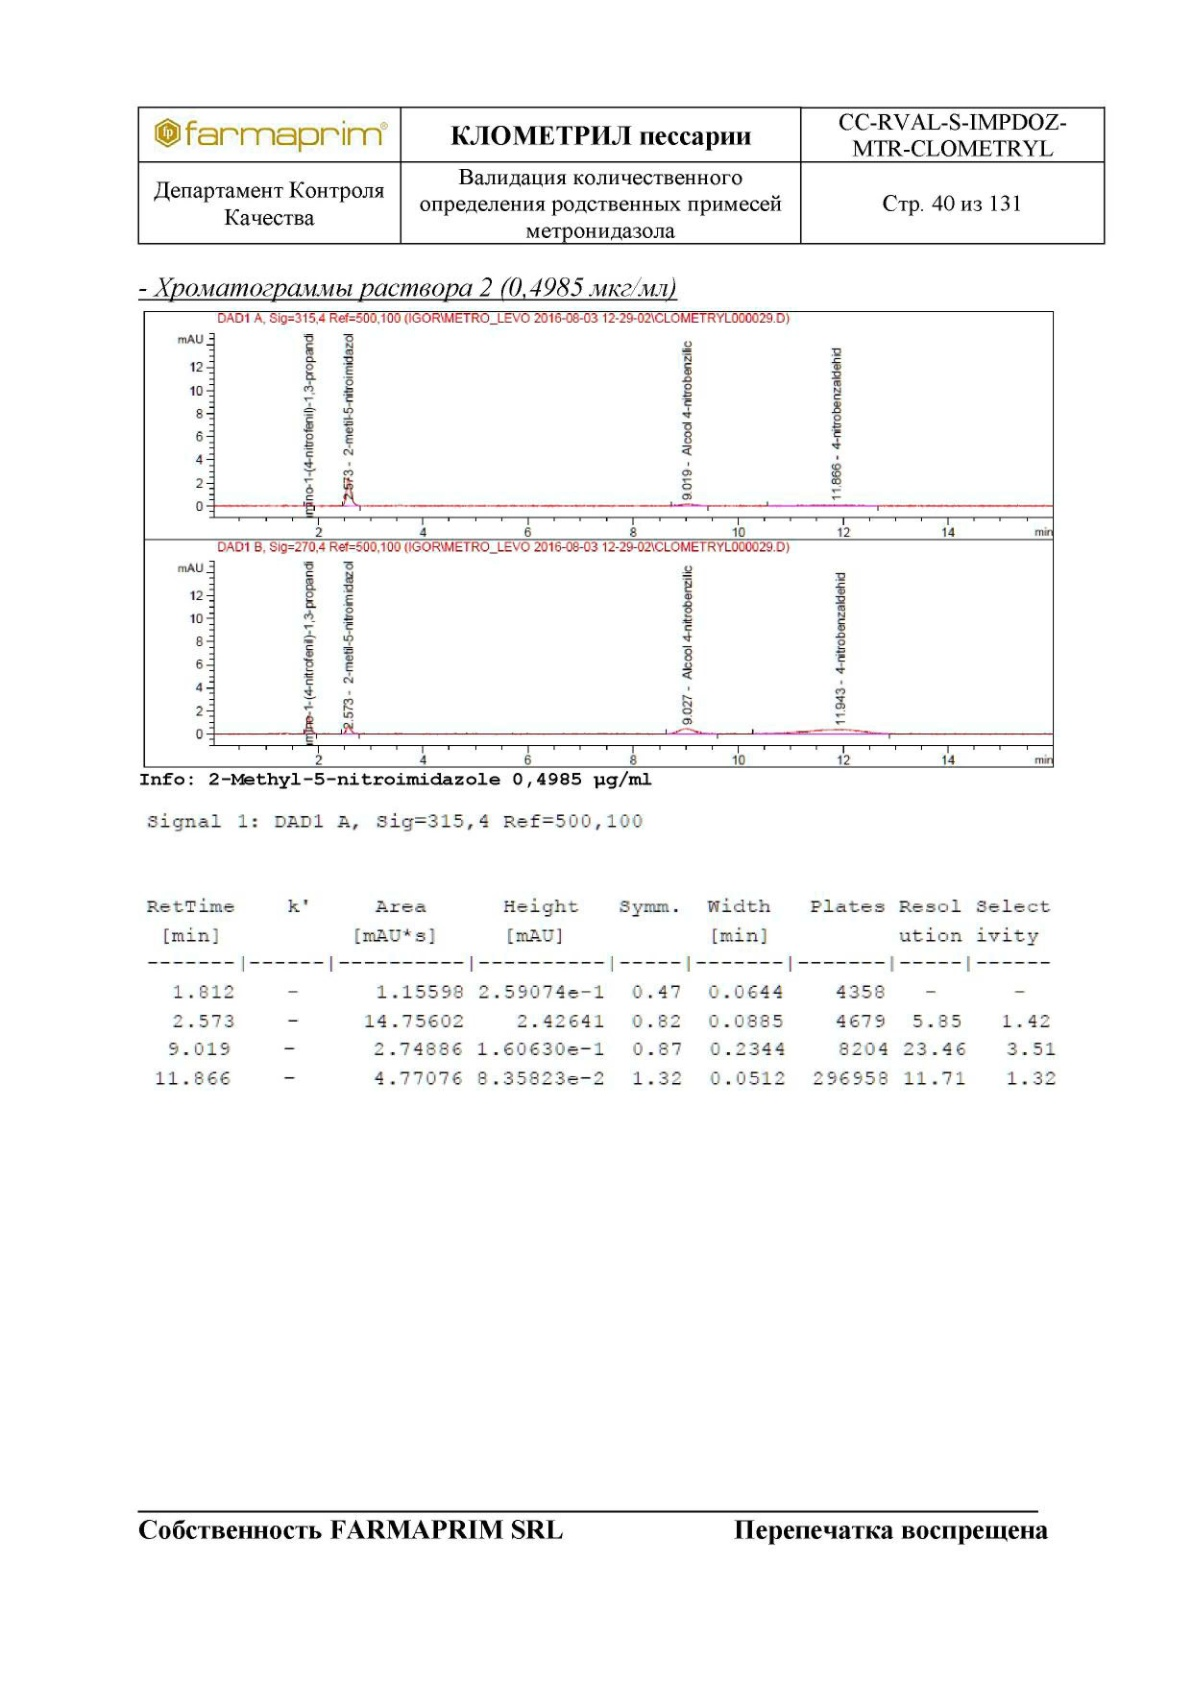full_lined: (135, 106, 1106, 246)
partial_lined: (141, 894, 1059, 1093)
